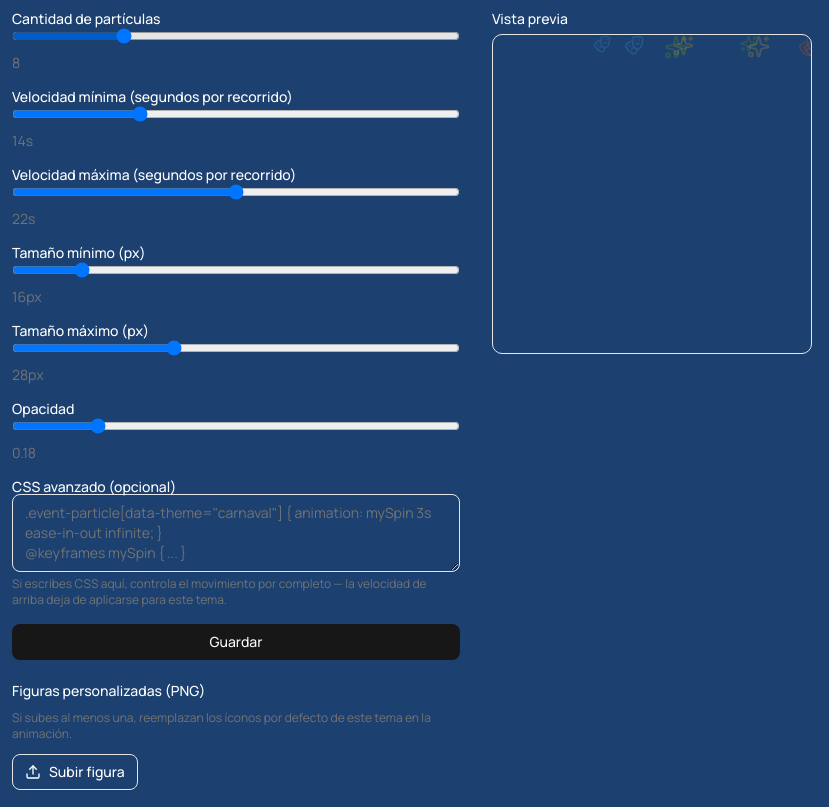
it: ThemeEditorClient › updates the preview immediately when the particle count changes, without submitting
Set the slider labelled "Cantidad de partículas" to "15" at (229, 36), box x1=12 y1=28 x2=460 y2=44
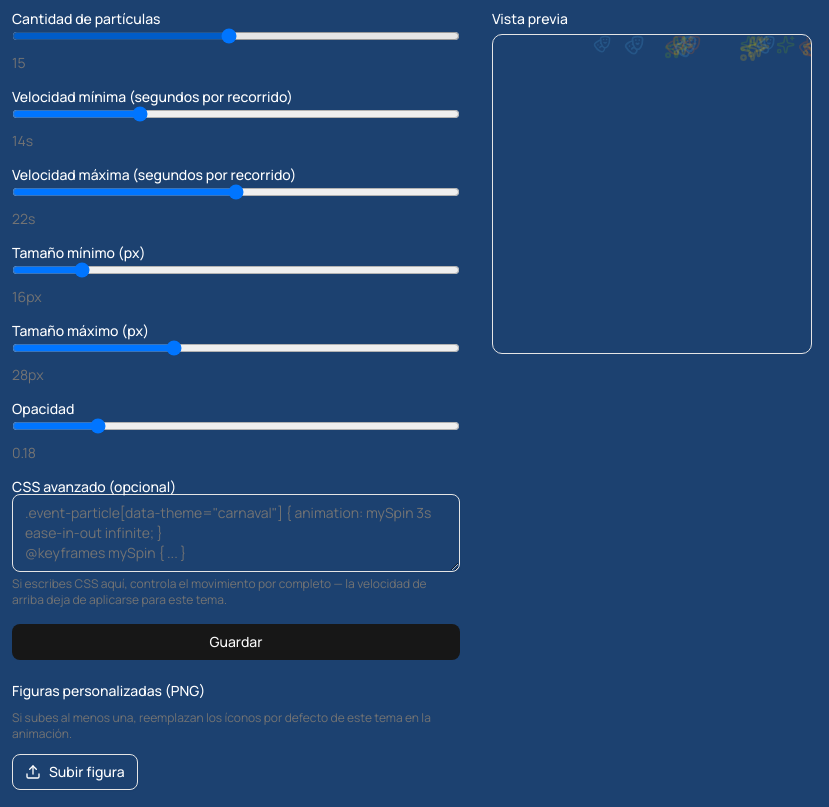
Expected: the number of icons with class "event-particle" is 15
